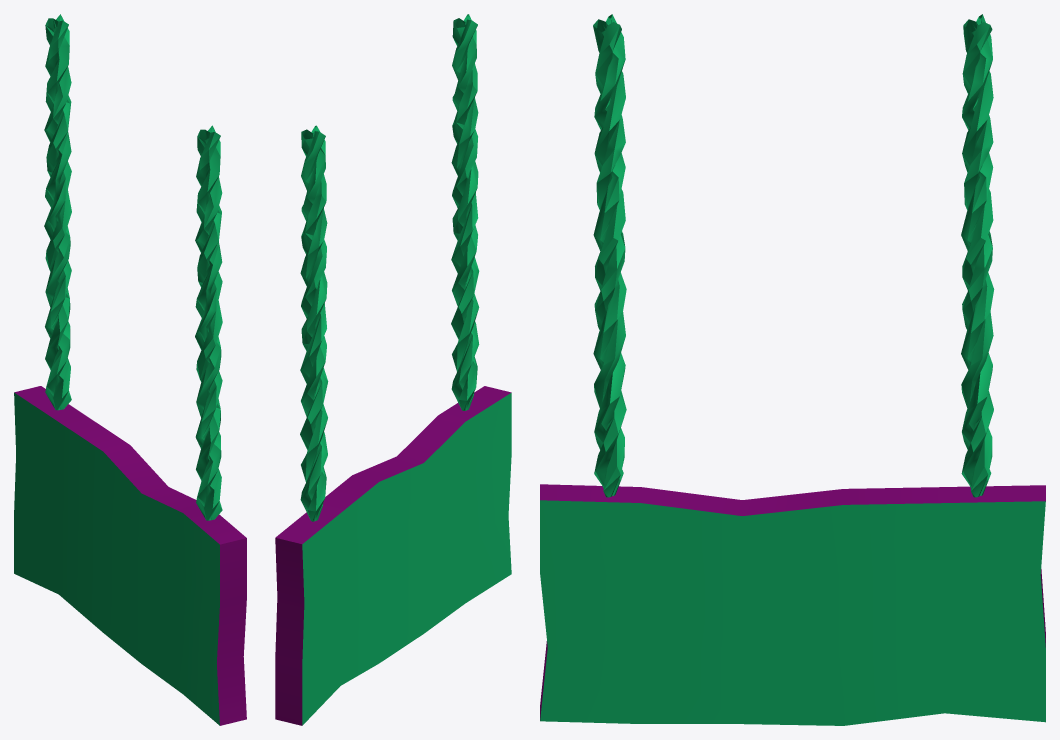
File: score_sign2.fbx
3 views of the same model, side by side, from view 1: azimuth 30°, elevation 25°; view 2: azimuth 150°, elevation 25°; view 3: azimuth 270°, elevation 25° (orthographic). The views are drawn at different scales.
Visible parts, largest first — view 1: Cube; view 2: Cube; view 3: Cube.
Boxes of the visible parts, left/top/right/bottom form: Cube: left=14, top=14, right=246, bottom=725; Cube: left=275, top=14, right=511, bottom=725; Cube: left=540, top=14, right=1045, bottom=725.
Bounding box in the file's own units: 8.19 × 129 × 84.65.
